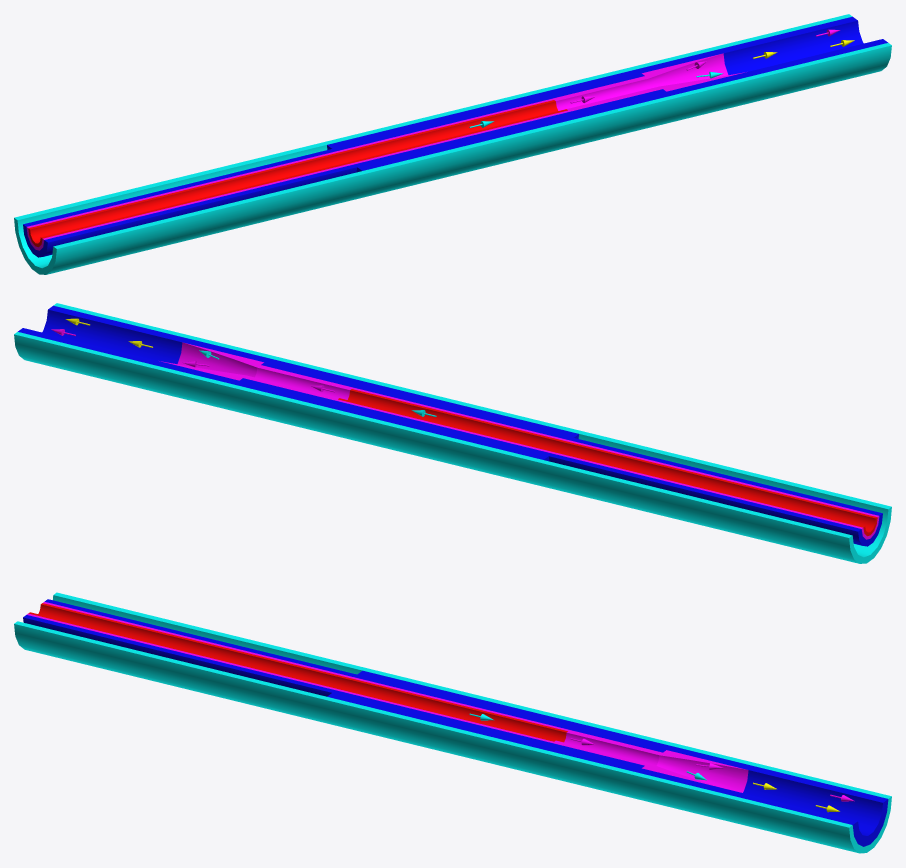
The model's file is annular_reactor_v2.OBJ.
3 renders of one model, top to bottom at view 1: azimuth 30°, elevation 25°; view 2: azimuth 150°, elevation 25°; view 3: azimuth 330°, elevation 25°, orthographic.
Parts seen in each view (by area): view 1: Solid; view 2: Solid; view 3: Solid.
Part boxes in pixels (left/top/right/bottom): Solid: left=14, top=14, right=891, bottom=274; Solid: left=14, top=303, right=891, bottom=563; Solid: left=14, top=592, right=891, bottom=853.
Size of the model in its own units: 13.5 by 0.6409 by 1.2.
